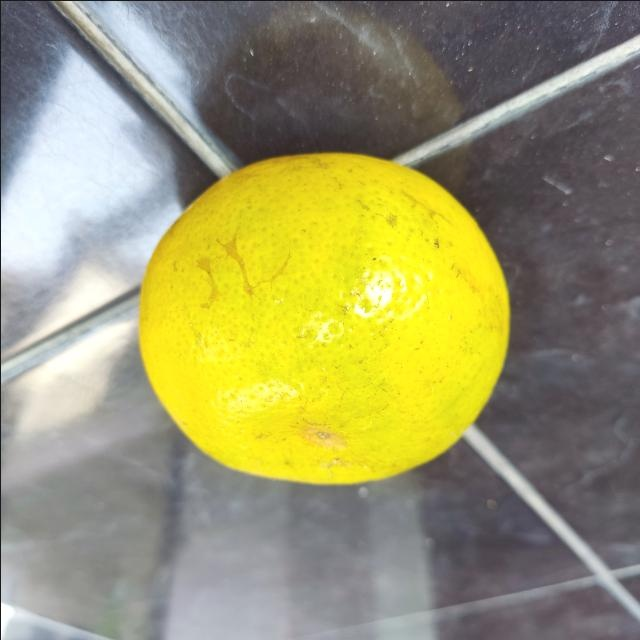agrume: (134, 147, 510, 485)
